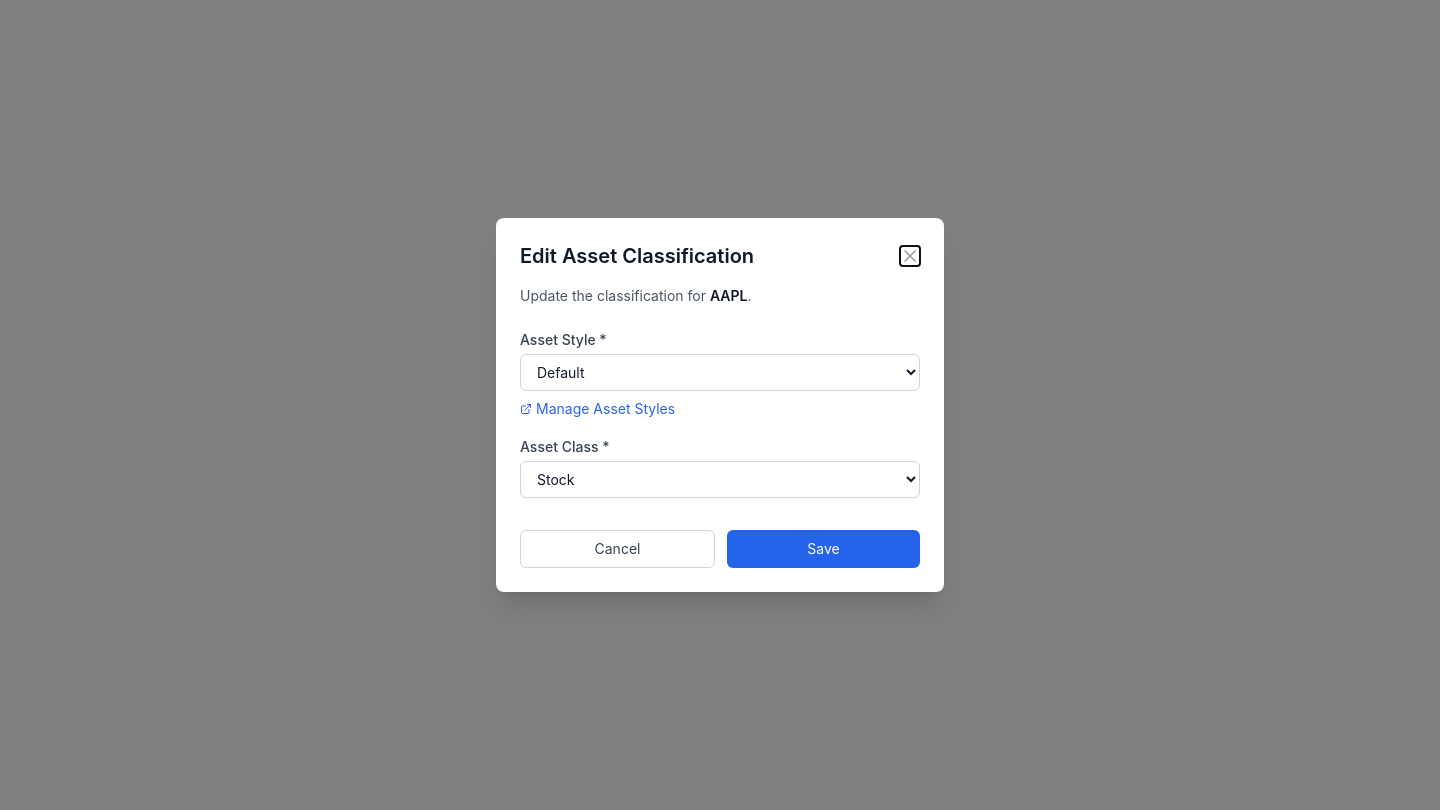
EditAssetMetadataDialog › shows error when save fails
Click the button "Save" at (824, 549), box [727,530,920,568]
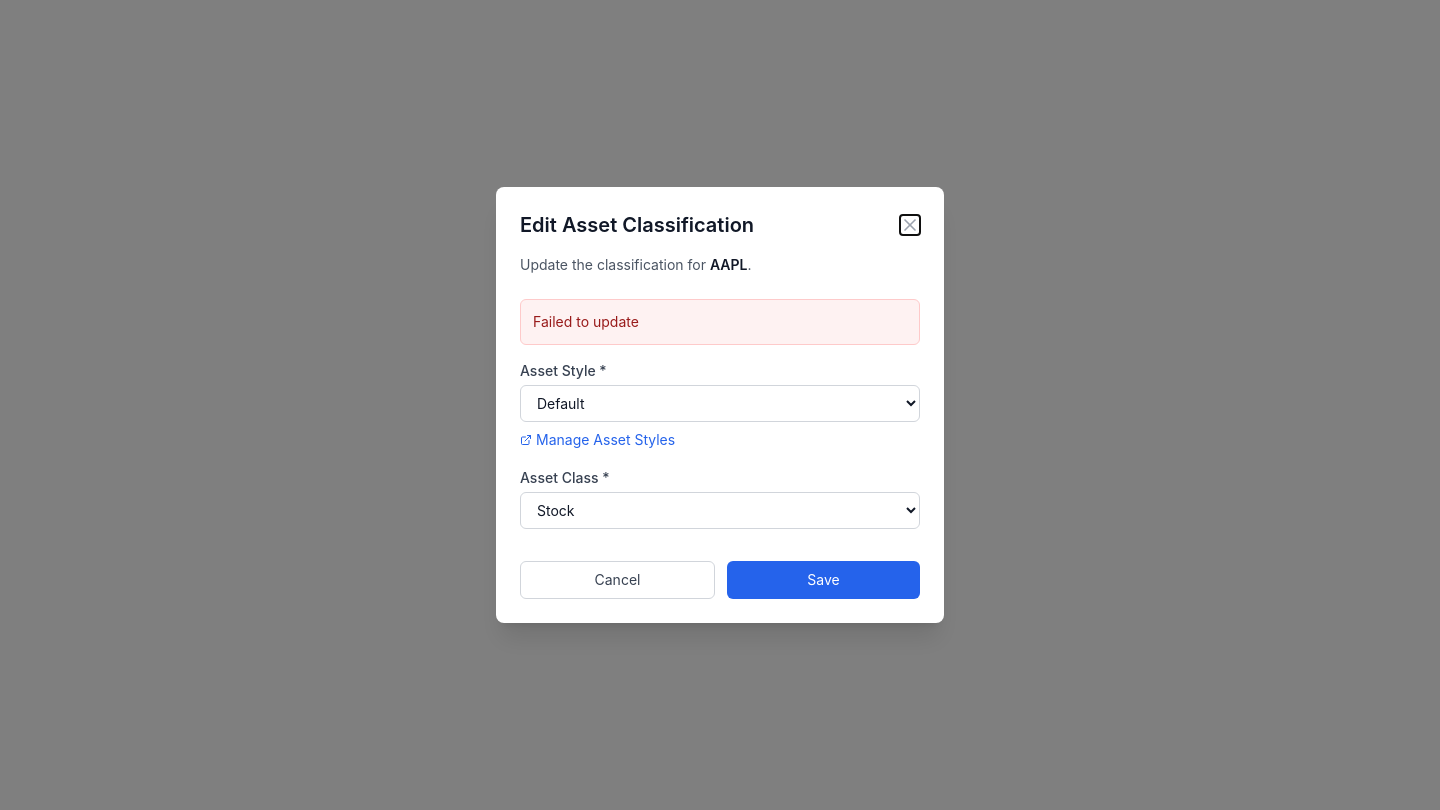
Result: the text "Failed to update" is shown at [533,313,639,330]
